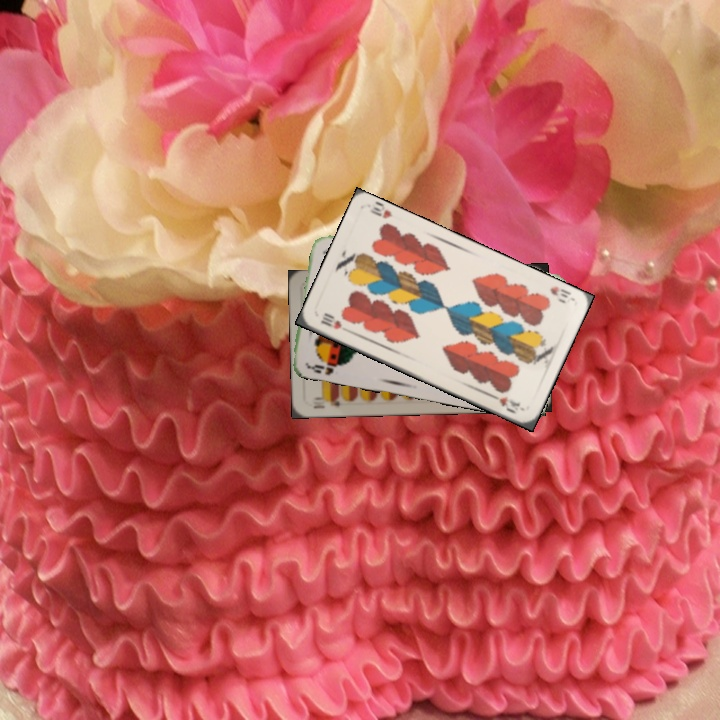E10: (309, 393, 342, 411)
H10: (317, 310, 344, 332), (546, 282, 573, 300)
SO: (304, 356, 346, 378)
